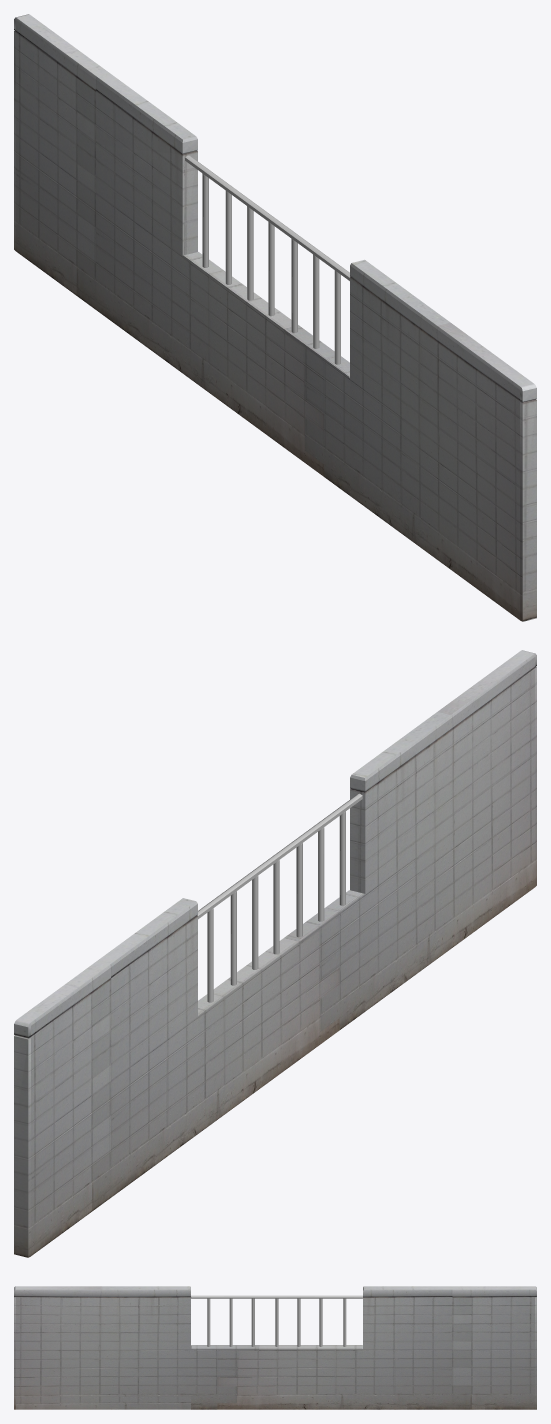
File: hfence03_3_LOD0.fbx
The picture shows the model from 3 angles, top to bottom: view 1: azimuth 30°, elevation 25°; view 2: azimuth 150°, elevation 25°; view 3: azimuth 270°, elevation 25°; orthographic projection. The views are drawn at different scales.
Visible parts, largest first — view 1: hfence03_3_LOD0; view 2: hfence03_3_LOD0; view 3: hfence03_3_LOD0.
Part boxes in pixels (x1,y1,x2,y2): hfence03_3_LOD0: (14, 14, 536, 621); hfence03_3_LOD0: (14, 650, 536, 1257); hfence03_3_LOD0: (14, 1286, 536, 1409).
Size of the model in its own units: 0.0664 by 0.9694 by 3.83.
